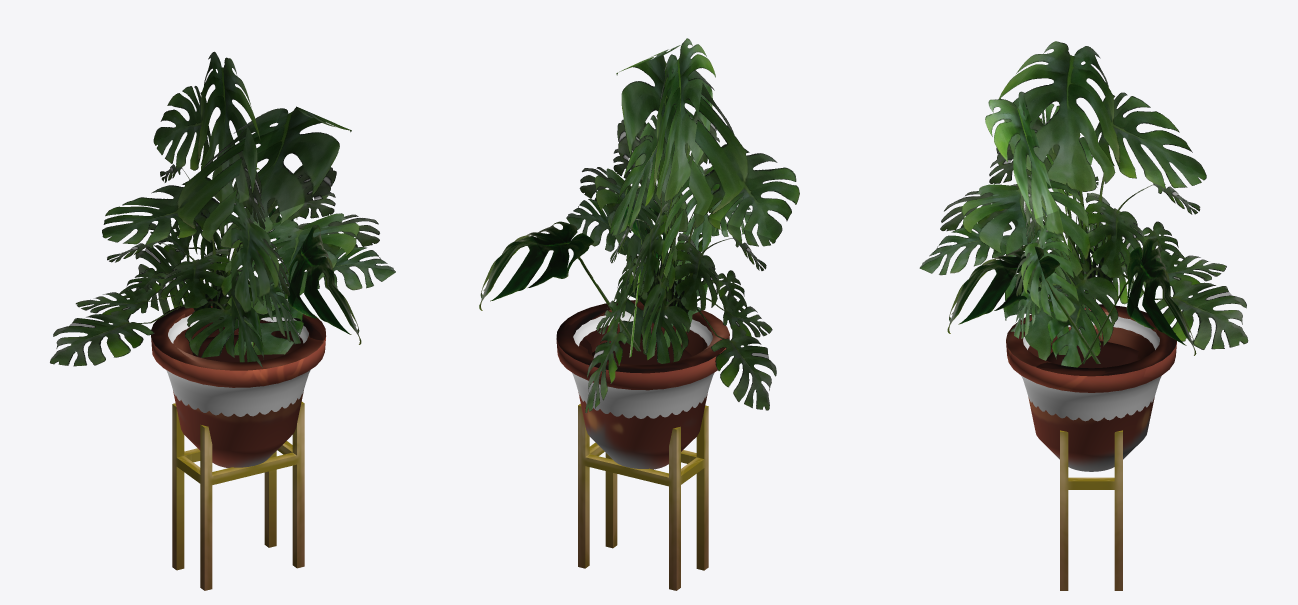
Rendered from Matera1.fbx.
The picture shows the model from 3 angles, left to right: view 1: azimuth 30°, elevation 25°; view 2: azimuth 150°, elevation 25°; view 3: azimuth 270°, elevation 25°; orthographic projection. The views are drawn at different scales.
Visible parts, largest first — view 1: Plane.001, Plane, Cylinder.001, Cube, Cylinder, Plane.002; view 2: Plane.001, Plane, Cylinder.001, Cube, Plane.002, Cylinder; view 3: Plane, Cylinder.001, Plane.001, Plane.002, Cylinder, Cube.
Boxes of the visible parts, bbox=[...] form: Plane.001: bbox=[50, 106, 395, 366]; Plane: bbox=[135, 51, 300, 367]; Cylinder.001: bbox=[151, 296, 326, 467]; Cube: bbox=[172, 401, 304, 590]; Cylinder: bbox=[166, 314, 310, 416]; Plane.002: bbox=[251, 168, 361, 347]; Plane.001: bbox=[566, 45, 799, 410]; Plane: bbox=[585, 38, 751, 412]; Cylinder.001: bbox=[556, 300, 729, 469]; Cube: bbox=[578, 404, 708, 590]; Plane.002: bbox=[479, 185, 664, 357]; Cylinder: bbox=[572, 311, 714, 418]; Plane: bbox=[919, 41, 1248, 360]; Cylinder.001: bbox=[1006, 304, 1176, 471]; Plane.001: bbox=[985, 91, 1145, 367]; Plane.002: bbox=[947, 238, 1196, 363]; Cylinder: bbox=[1021, 315, 1161, 421]; Cube: bbox=[1060, 430, 1122, 590].
Bounding box in the file's own units: 453 × 612 × 401.
